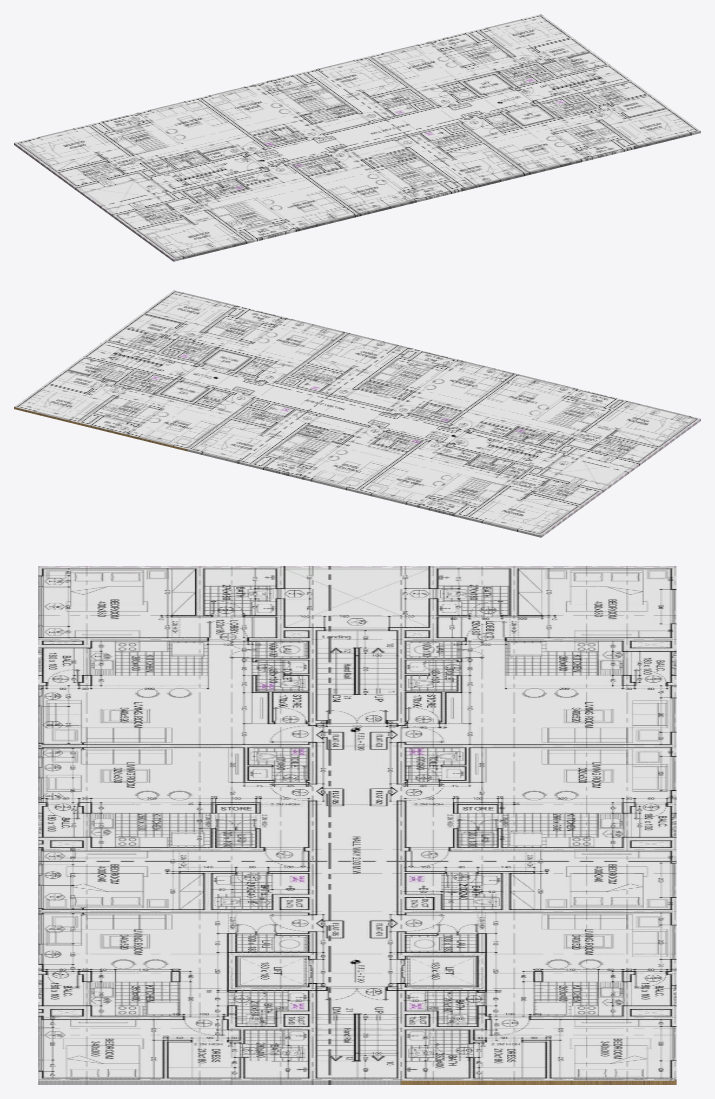
Rendered from Second floor plans.compressed.glb.
The picture shows the model from 3 angles, top to bottom: view 1: azimuth 30°, elevation 25°; view 2: azimuth 150°, elevation 25°; view 3: azimuth 270°, elevation 25°; orthographic projection. The views are drawn at different scales.
Visible parts, largest first — view 1: HALL WAY.002; view 2: HALL WAY.002, flat-01.002; view 3: HALL WAY.002, flat-01.002.
Part boxes in pixels (x1,y1,x2,y2): HALL WAY.002: [14, 14, 700, 261]; HALL WAY.002: [14, 290, 700, 537]; flat-01.002: [14, 407, 187, 451]; HALL WAY.002: [38, 566, 676, 1084]; flat-01.002: [401, 1080, 676, 1084].
Size of the model in its own units: 10.9 by 0.0414 by 5.71.
Materials: 2 (2 with a texture image).
